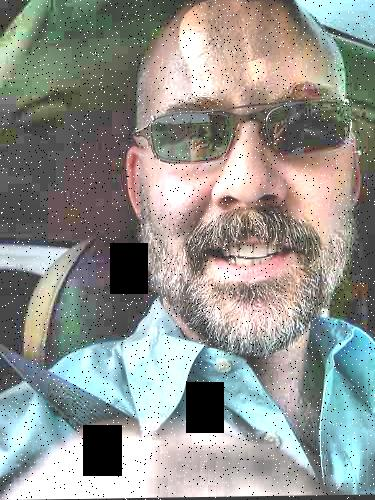seatbelt: (9, 324, 143, 455)
